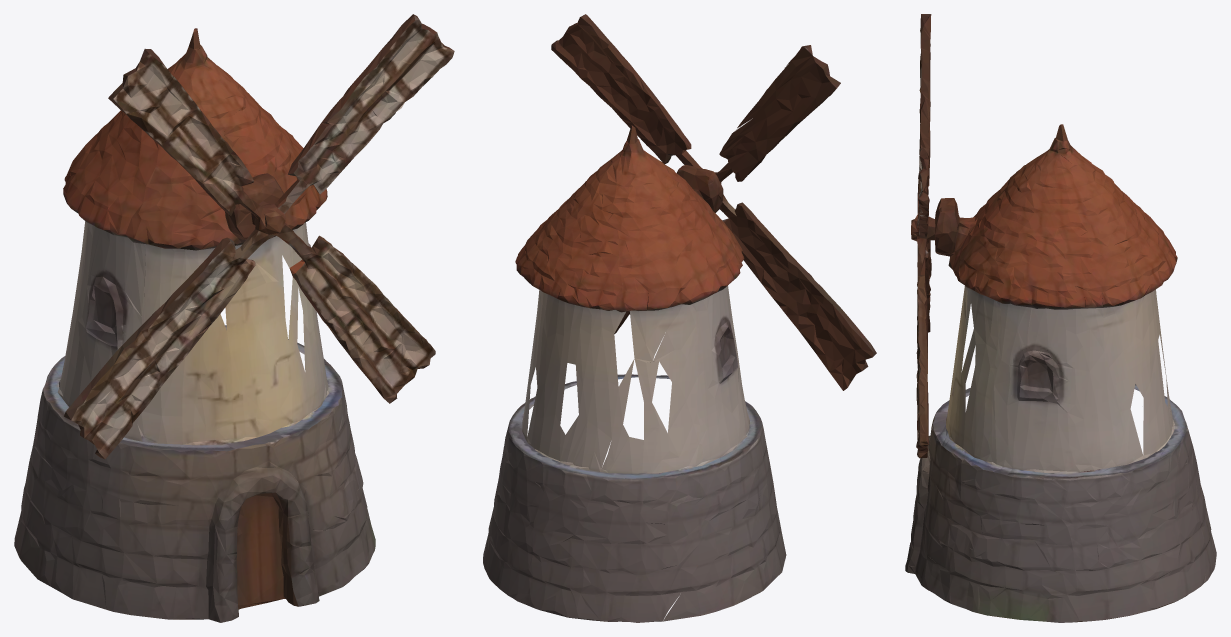
The model's file is mill.glb.
3 views of the same model, side by side, from view 1: azimuth 30°, elevation 25°; view 2: azimuth 150°, elevation 25°; view 3: azimuth 270°, elevation 25° (orthographic). The views are drawn at different scales.
Visible parts, largest first — view 1: geometry_0; view 2: geometry_0; view 3: geometry_0.
Part boxes in pixels (bbox=[...]): geometry_0: bbox=[14, 14, 454, 622]; geometry_0: bbox=[483, 14, 876, 622]; geometry_0: bbox=[905, 14, 1216, 622].
Bounding box in the file's own units: 2.22 × 3.2 × 1.83.
Materials: 1 (1 with a texture image).
